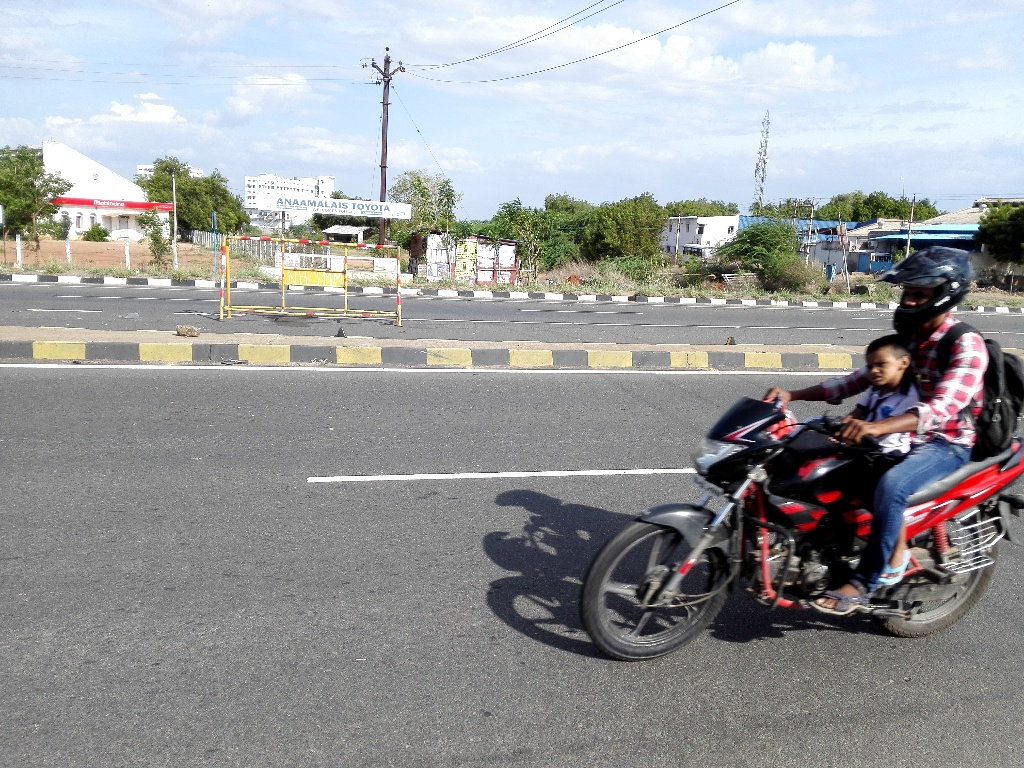biker: (565, 189, 1024, 673)
helmet: (877, 241, 978, 343)
nohelmet: (858, 333, 920, 400)
